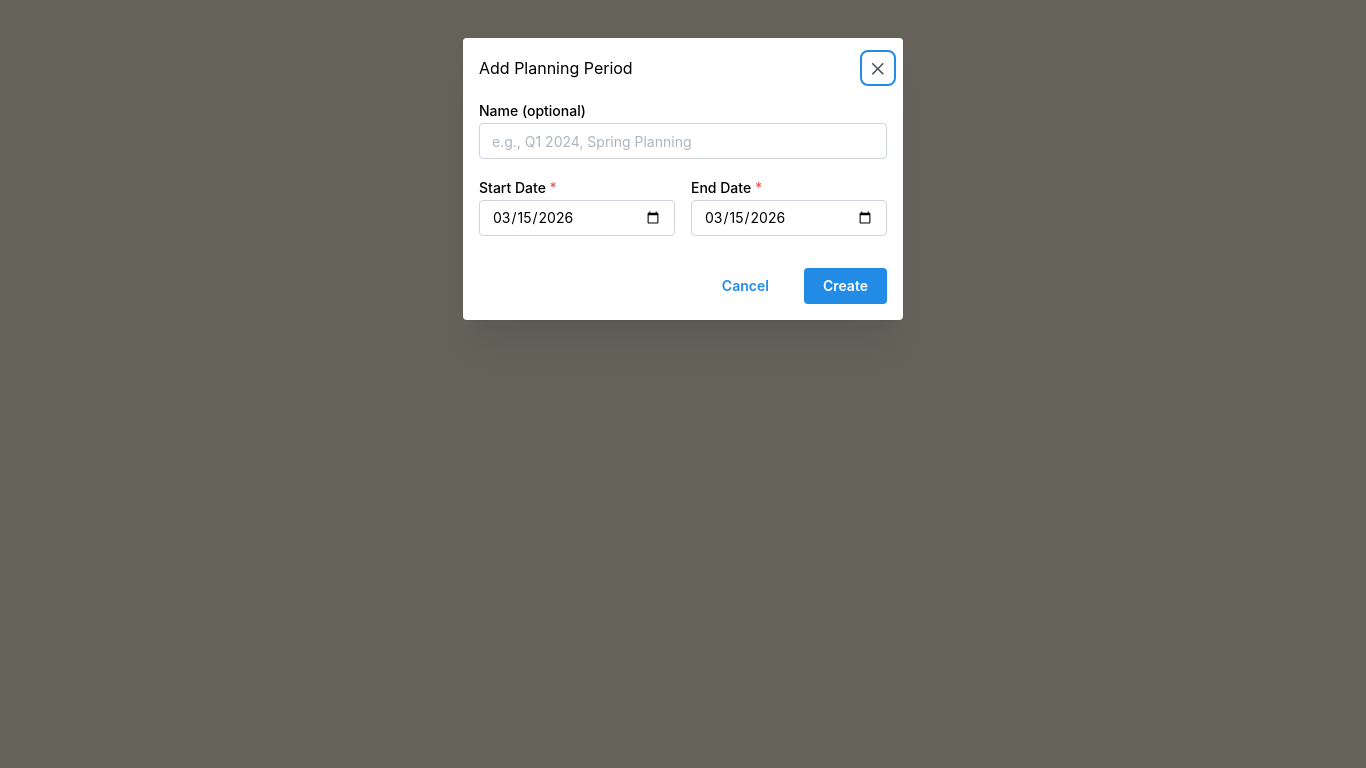
Scenario: PlanningPeriodForm › validation › shows error when end date is before start date
Type "2024-03-01" into the date field labelled "Start Date *".
click(577, 218); type("2024-03-01")  # box [479, 200, 675, 236]
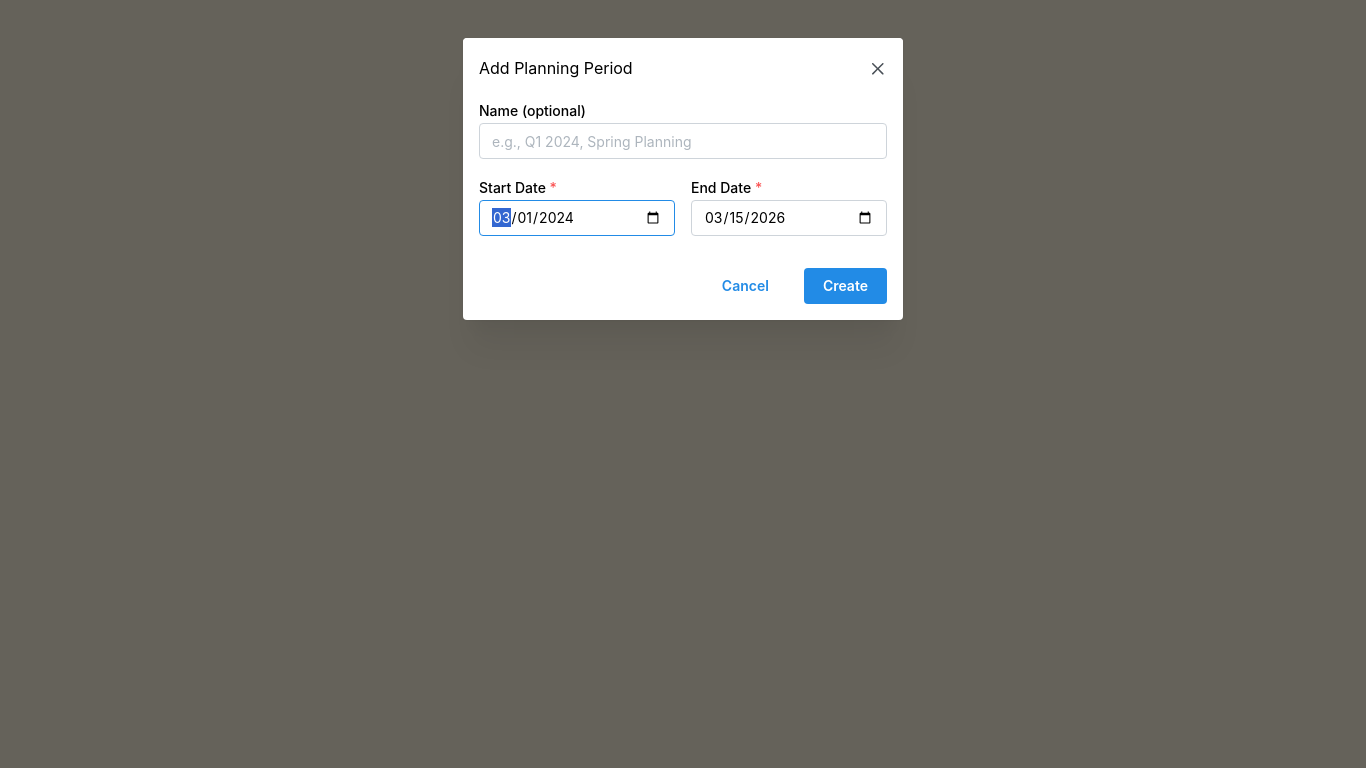
Type "2024-01-01" into the date field labelled "End Date *".
click(789, 218); type("2024-01-01")  # box [691, 200, 887, 236]
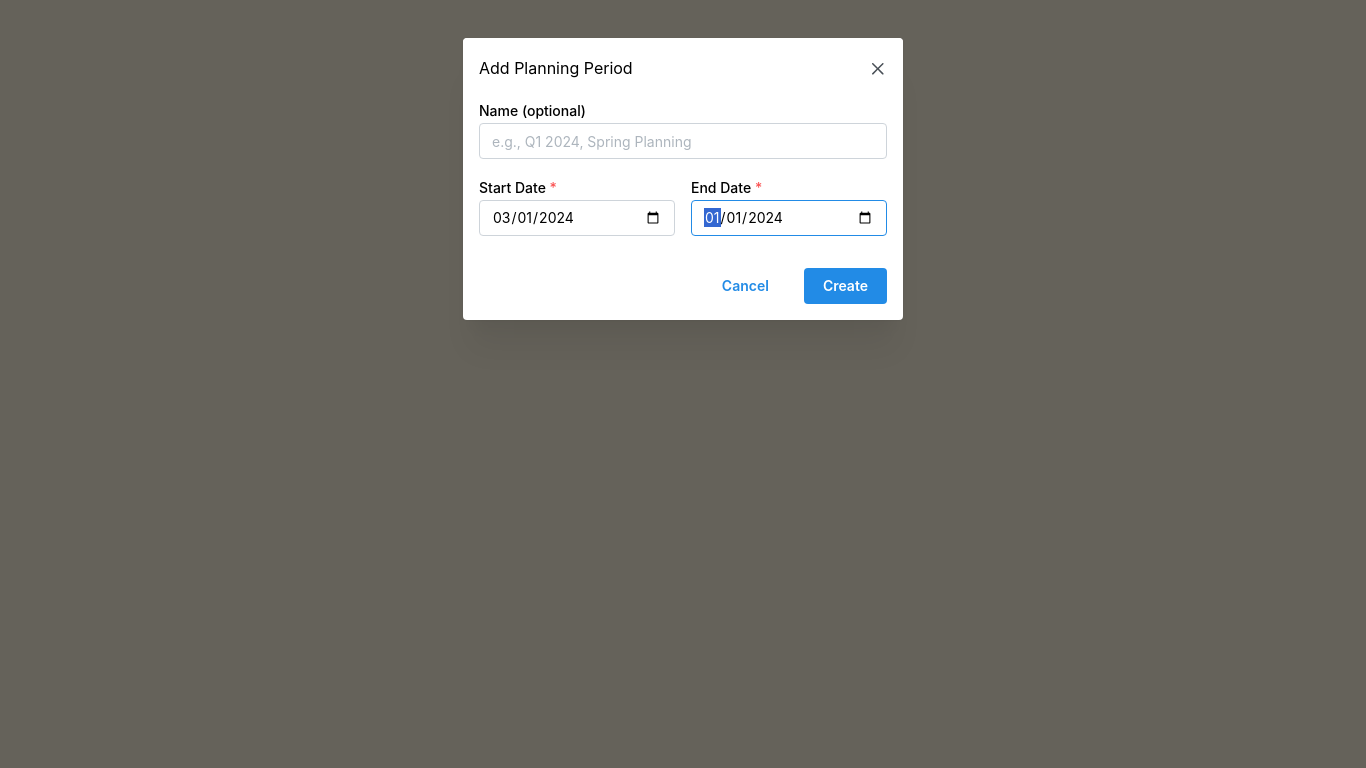
Click the button "Create".
click(845, 286)  # box [804, 268, 887, 304]
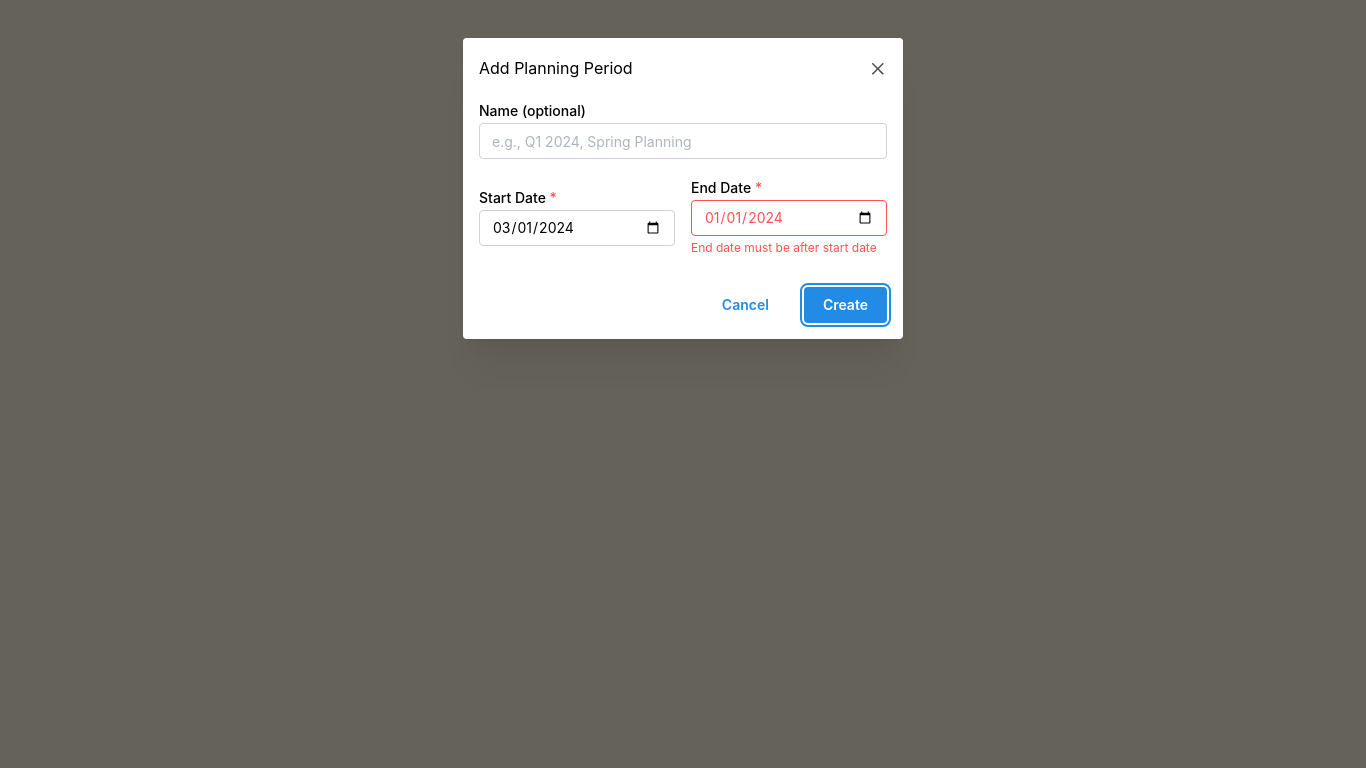
Result: the text "End date must be after start date" is shown at [691, 241, 887, 255]
